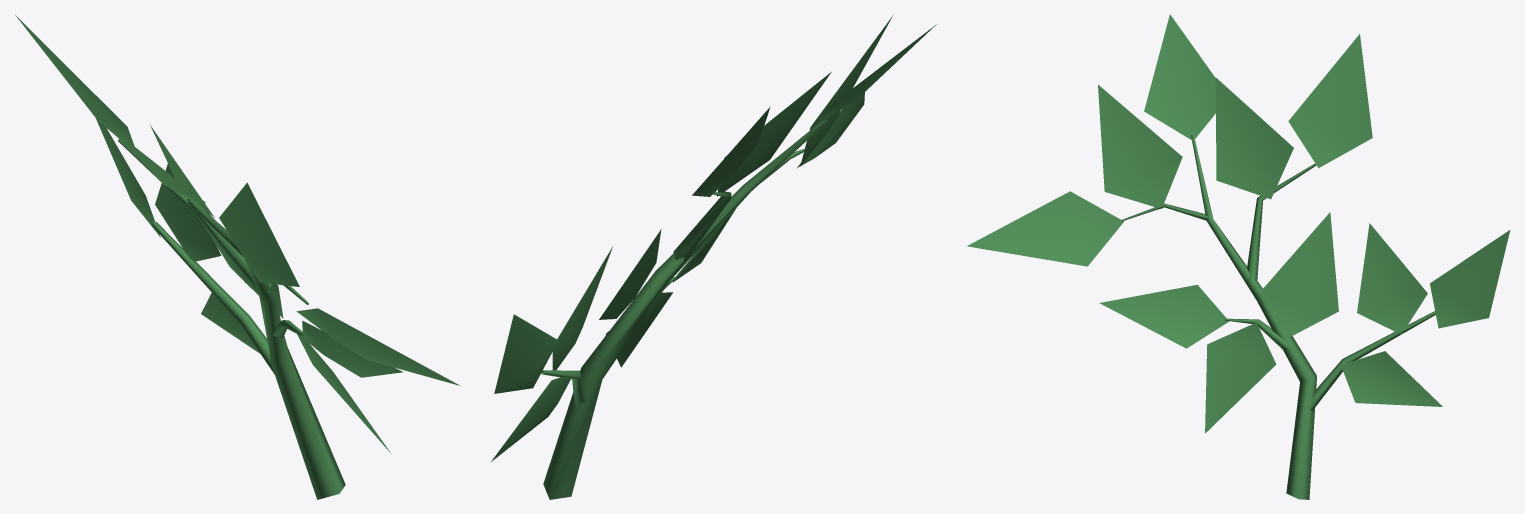
Rendered from plant3.fbx.
The picture shows the model from 3 angles, left to right: view 1: azimuth 30°, elevation 25°; view 2: azimuth 150°, elevation 25°; view 3: azimuth 270°, elevation 25°; orthographic projection. The views are drawn at different scales.
Visible parts, largest first — view 1: plant3; view 2: plant3; view 3: plant3.
Part boxes in pixels (<box>): plant3: <box>15,15,460,499</box>; plant3: <box>490,15,936,499</box>; plant3: <box>967,14,1510,499</box>.
Bounding box in the file's own units: 1.69 × 2.51 × 3.31.
